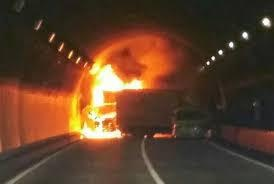fire: (67, 55, 146, 138)
